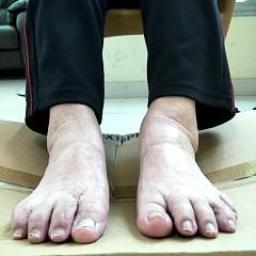Front View -Both Feet-: (2, 98, 247, 251)
